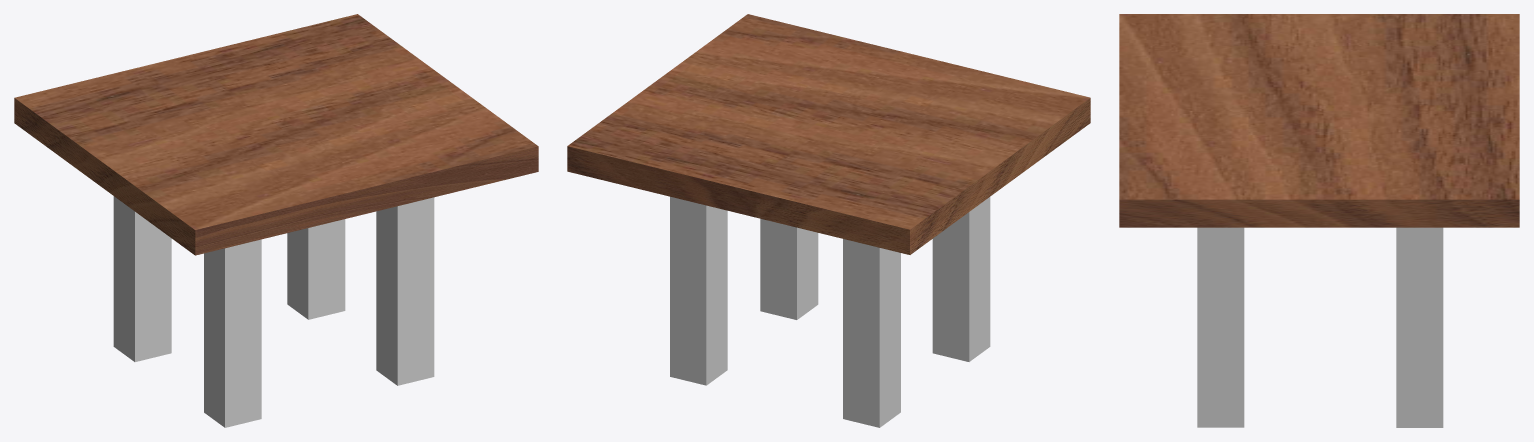
The model's file is Table.glb.
The picture shows the model from 3 angles, left to right: view 1: azimuth 30°, elevation 25°; view 2: azimuth 150°, elevation 25°; view 3: azimuth 270°, elevation 25°; orthographic projection. The views are drawn at different scales.
Visible parts, largest first — view 1: Object, Cube.002, Cube, Cube.001, Cube.003; view 2: Object, Cube.001, Cube.003, Cube, Cube.002; view 3: Object, Cube.002, Cube.003.
Boxes of the visible parts, x1,y1,x2,y2 form: Object: [14, 14, 538, 255]; Cube.002: [376, 197, 434, 385]; Cube: [204, 239, 261, 427]; Cube.001: [113, 196, 171, 361]; Cube.003: [287, 219, 345, 319]; Object: [567, 14, 1090, 254]; Cube.001: [843, 239, 900, 427]; Cube.003: [670, 196, 727, 385]; Cube: [932, 197, 990, 361]; Cube.002: [760, 218, 818, 319]; Object: [1119, 14, 1519, 227]; Cube.002: [1197, 227, 1244, 427]; Cube.003: [1396, 227, 1443, 427].
Bounding box in the file's own units: 15.34 × 10.22 × 13.99.
2 materials, 1 textured.
